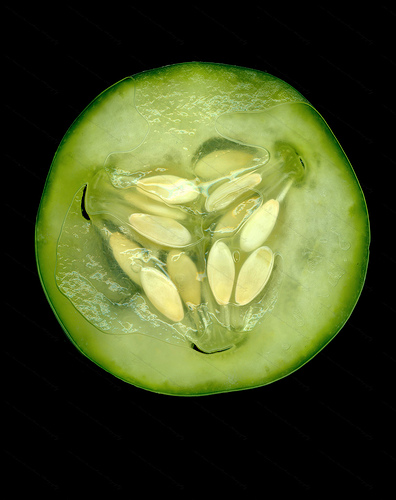cucumber: (36, 58, 374, 401)
